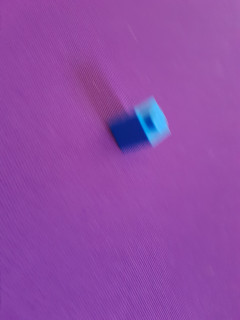1x1 blue: (102, 93, 172, 155)
